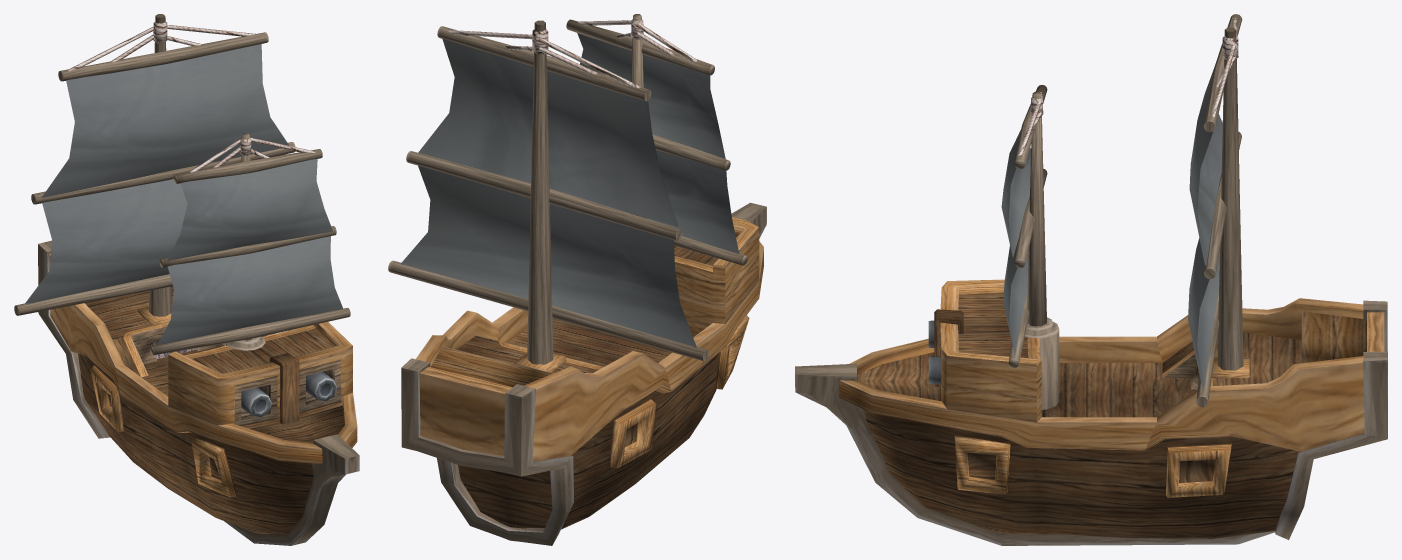
File: GalleonShip.fbx
3 views of the same model, side by side, from view 1: azimuth 30°, elevation 25°; view 2: azimuth 150°, elevation 25°; view 3: azimuth 270°, elevation 25° (orthographic). The views are drawn at different scales.
Visible parts, largest first — view 1: GalleonShip; view 2: GalleonShip; view 3: GalleonShip.
Part boxes in pixels (x1,y1,x2,y2): GalleonShip: (14, 14, 359, 545); GalleonShip: (388, 14, 766, 545); GalleonShip: (795, 14, 1387, 545).
Bounding box in the file's own units: 517 × 773 × 811.
